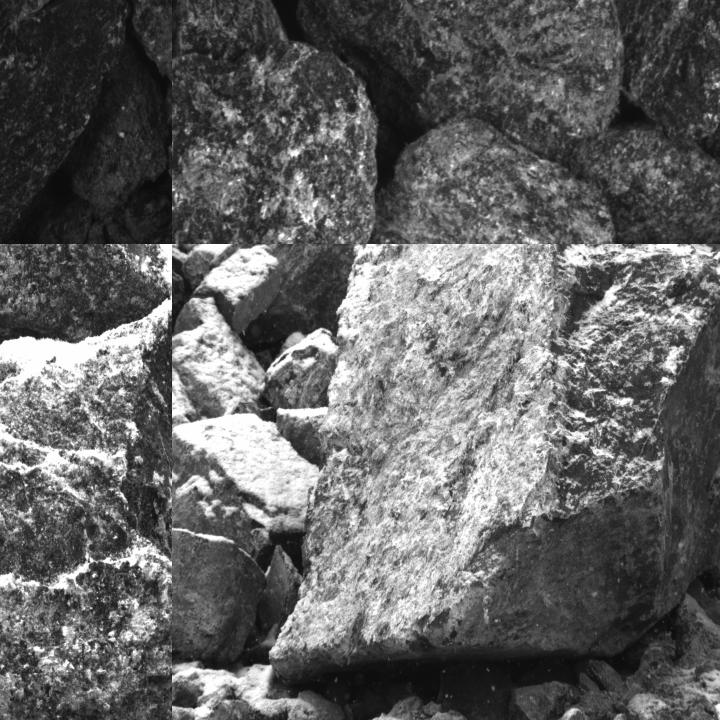stone: (268, 244, 719, 686), (0, 294, 171, 719), (296, 0, 622, 162), (172, 41, 379, 243), (359, 117, 617, 243), (0, 0, 128, 243), (172, 412, 317, 562), (0, 244, 171, 361), (568, 120, 719, 243), (606, 0, 719, 141), (172, 525, 267, 678), (180, 244, 282, 332), (172, 0, 288, 61), (265, 327, 334, 410), (348, 696, 472, 719), (172, 700, 249, 719), (626, 693, 674, 719), (172, 704, 196, 719)
